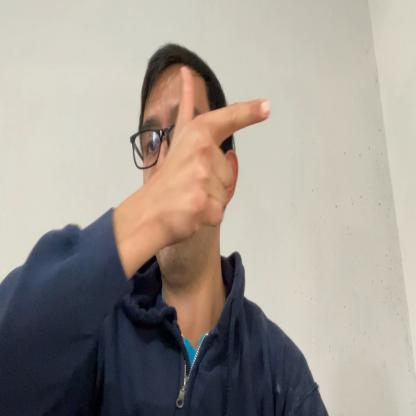G: (175, 68, 271, 248)
